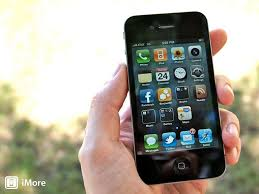iphone: (122, 10, 228, 185)
iphone4: (122, 10, 228, 185)
